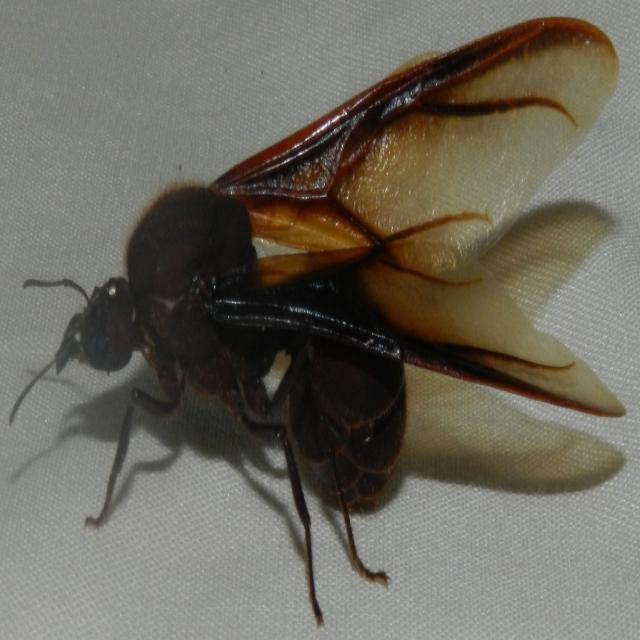Alive-Female-Alate: (8, 14, 626, 627)
